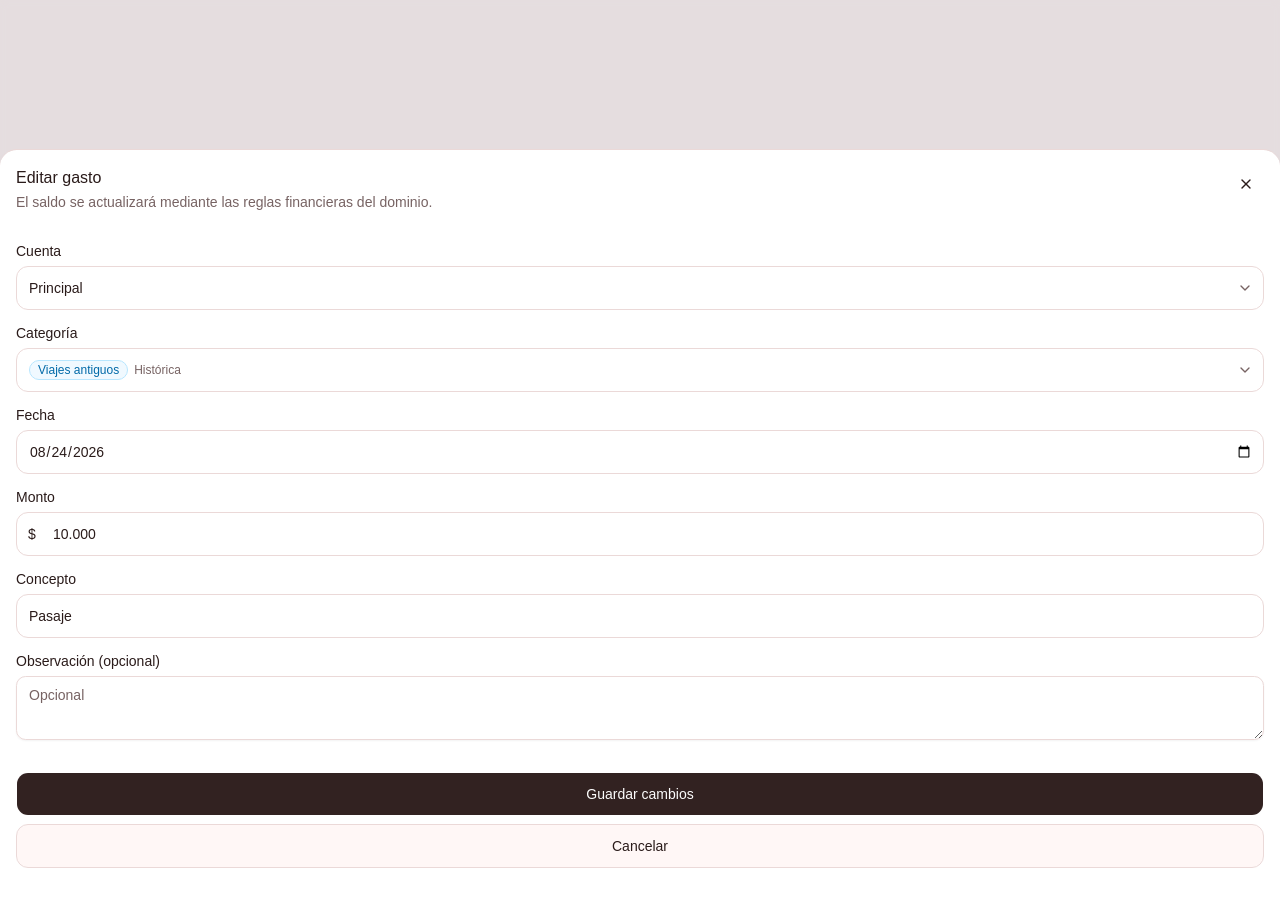
Test: MovementForm category behavior › only offers active categories after changing the inactive historical value
Click the dropdown named "Categoría": (79,370) [16,348,1264,392]
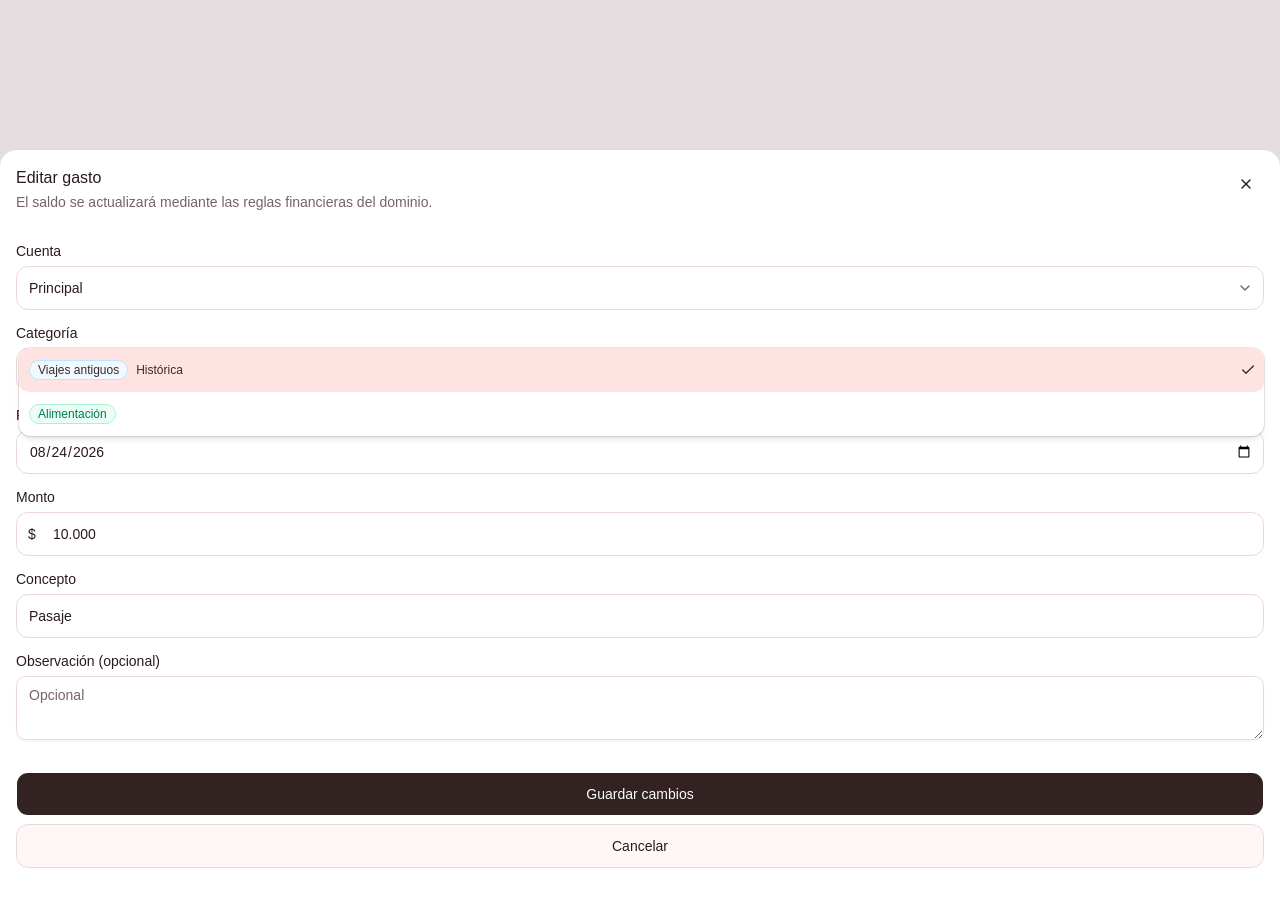
Check: the option "Viajes antiguos Histórica" is shown, box [19,348,1264,392]
Click the option "Alimentación": (72,414) [29,404,116,424]
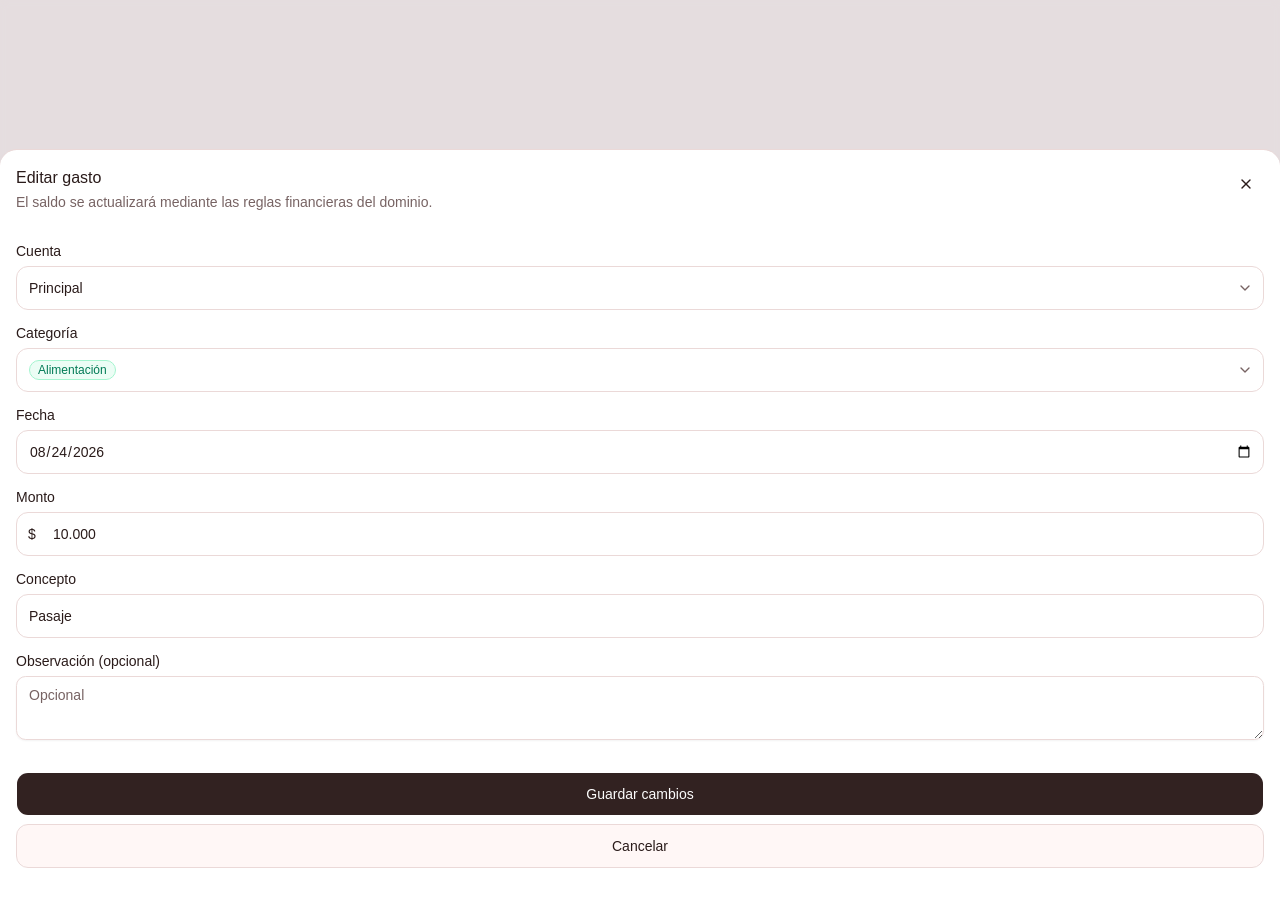
Click the dropdown named "Categoría": (72,370) [16,348,1264,392]
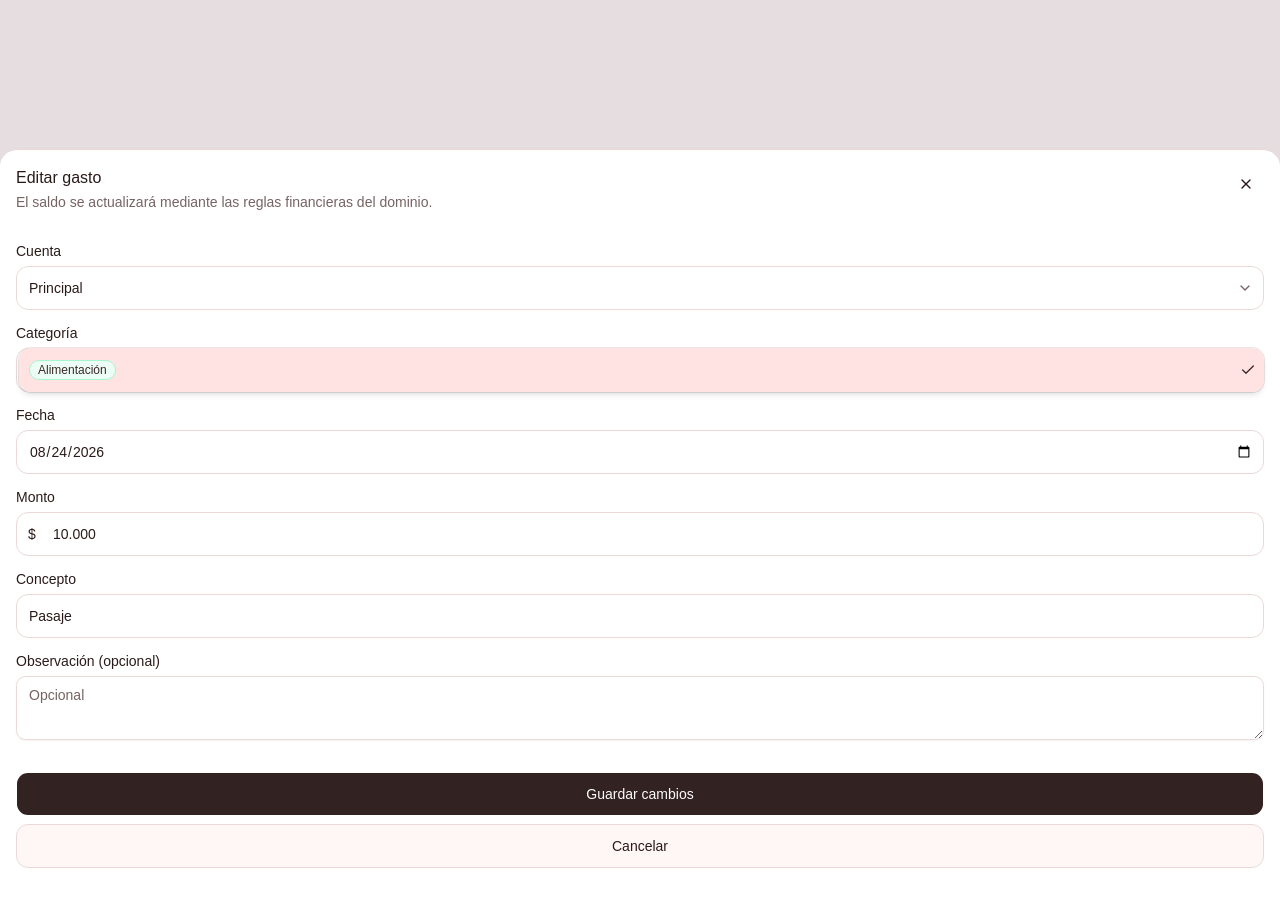
Check: the text "Viajes antiguos" is not shown
Check: the option "Alimentación" is shown, box [19,348,1264,392]
